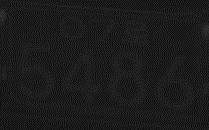0: (58, 14, 86, 42)
4: (60, 45, 102, 105)
5: (18, 41, 55, 103)
6: (154, 54, 196, 110)
7: (89, 17, 115, 42)
8: (108, 48, 145, 107)
로: (124, 19, 148, 46)
